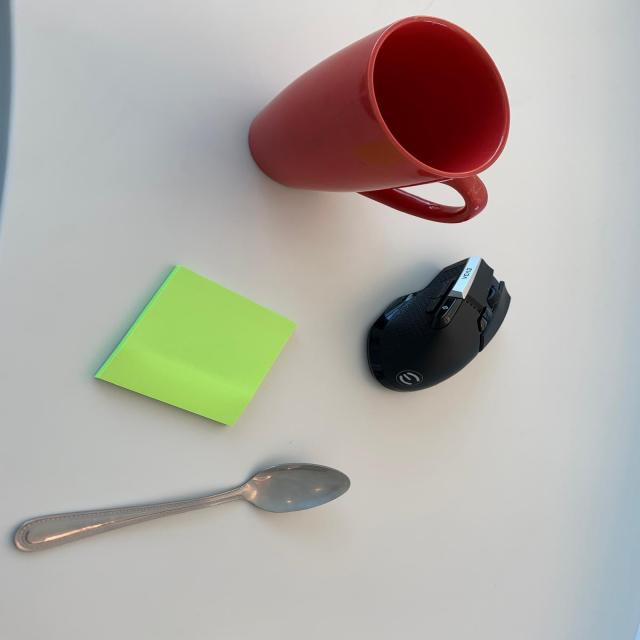Cup: (225, 12, 580, 229)
Mouse: (346, 254, 550, 399)
Spoon: (0, 460, 371, 558)
